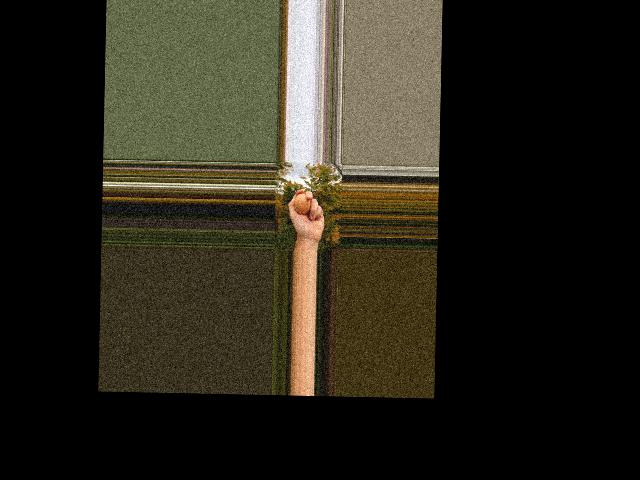egg: (294, 193, 311, 214)
